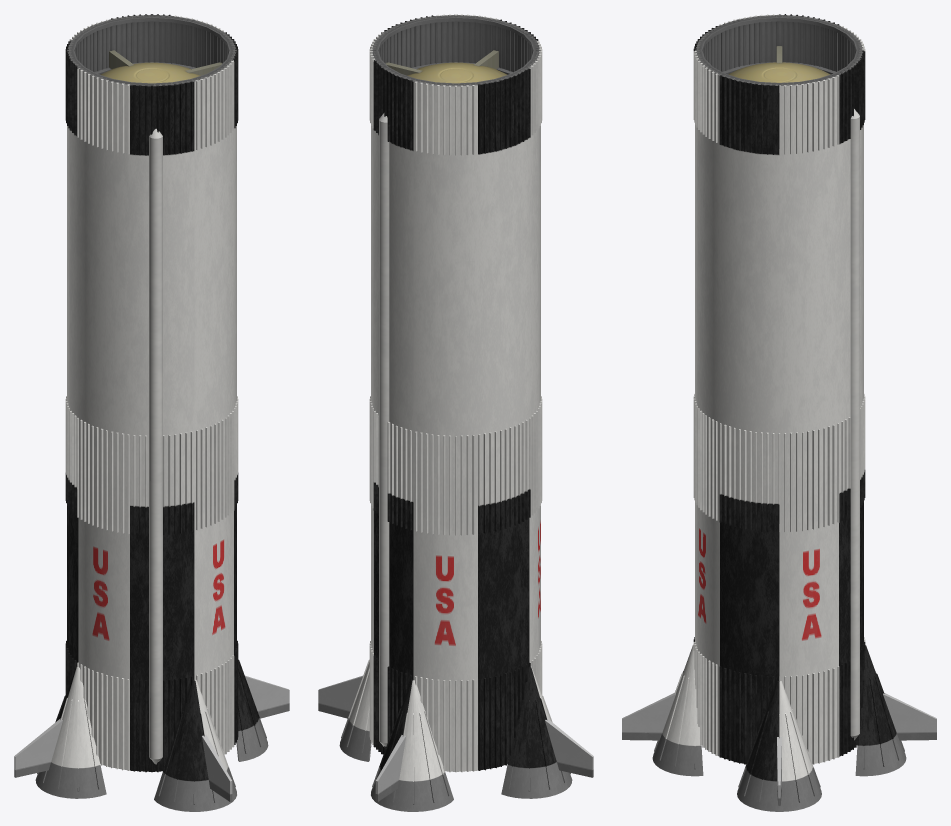
The model's file is ksprocket.fbx.
3 renders of one model, left to right at view 1: azimuth 30°, elevation 25°; view 2: azimuth 150°, elevation 25°; view 3: azimuth 270°, elevation 25°, orthographic.
Parts seen in each view (by area): view 1: tank.010, bits.006, fairing.005; view 2: tank.010, bits.006, fairing.005; view 3: tank.010, fairing.005, bits.006.
Part boxes in pixels (x1,y1,x2,y2): tank.010: (65,14,238,772); bits.006: (67,14,236,764); fairing.005: (14,659,289,811); tank.010: (369,14,542,772); bits.006: (371,14,540,746); fairing.005: (318,659,593,811); tank.010: (693,14,865,764); fairing.005: (622,645,936,811); bits.006: (695,15,863,740).
Size of the model in its own units: 1885 by 4676 by 1885.
